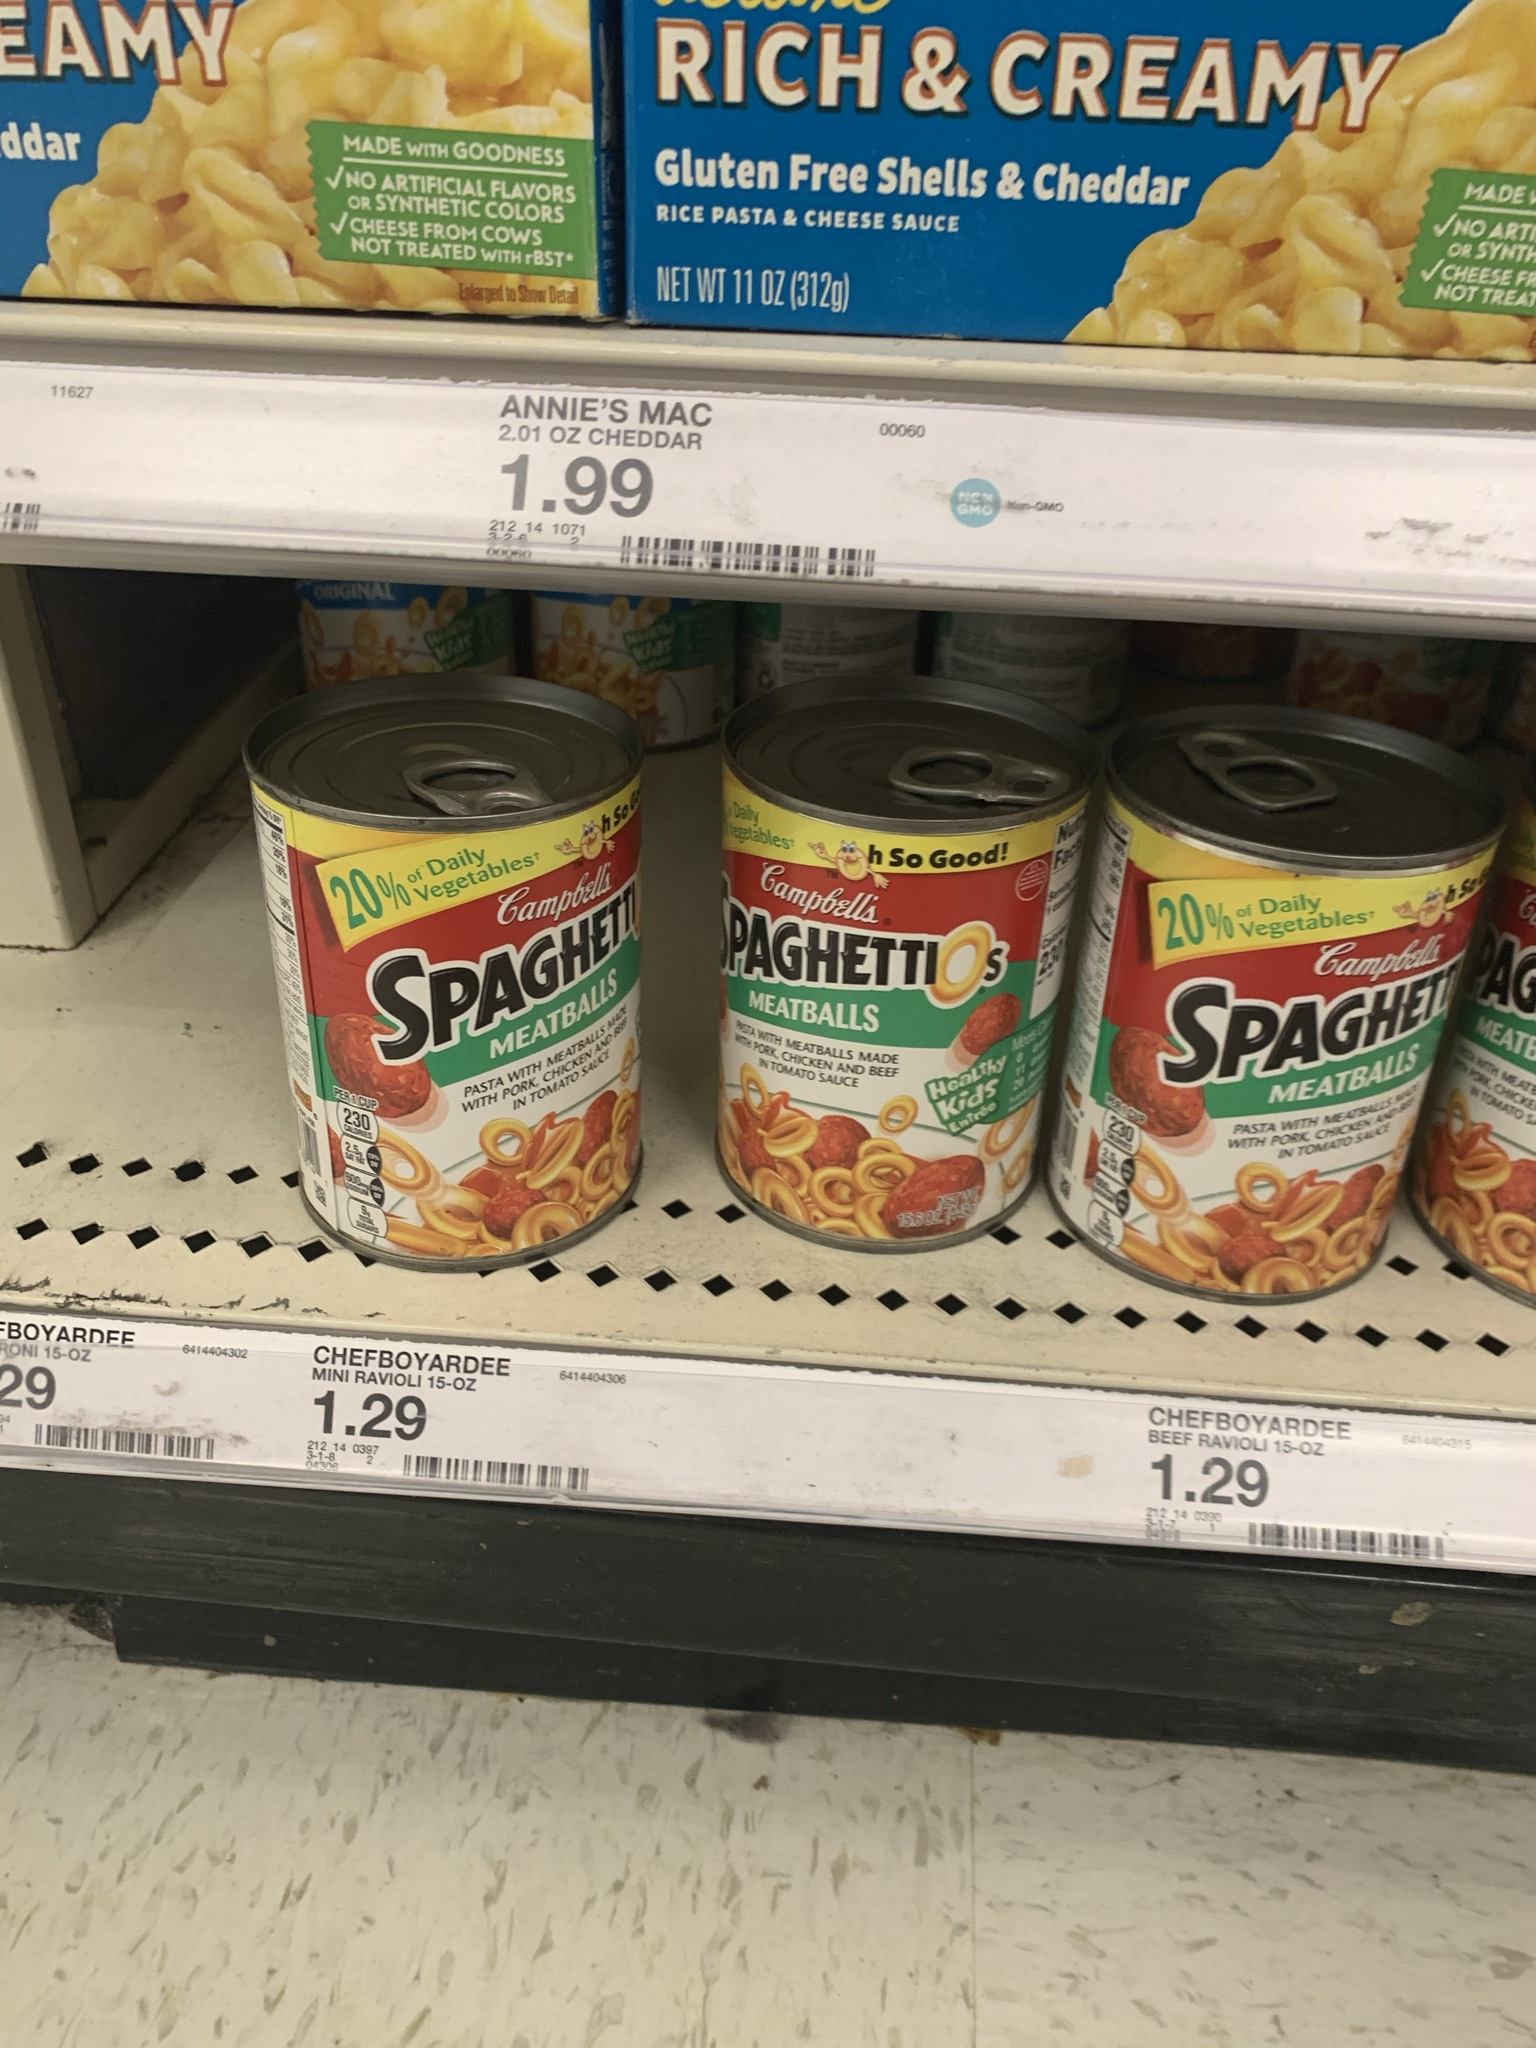can: (294, 708, 631, 1209), (726, 721, 1046, 1201), (1126, 755, 1400, 1230)
